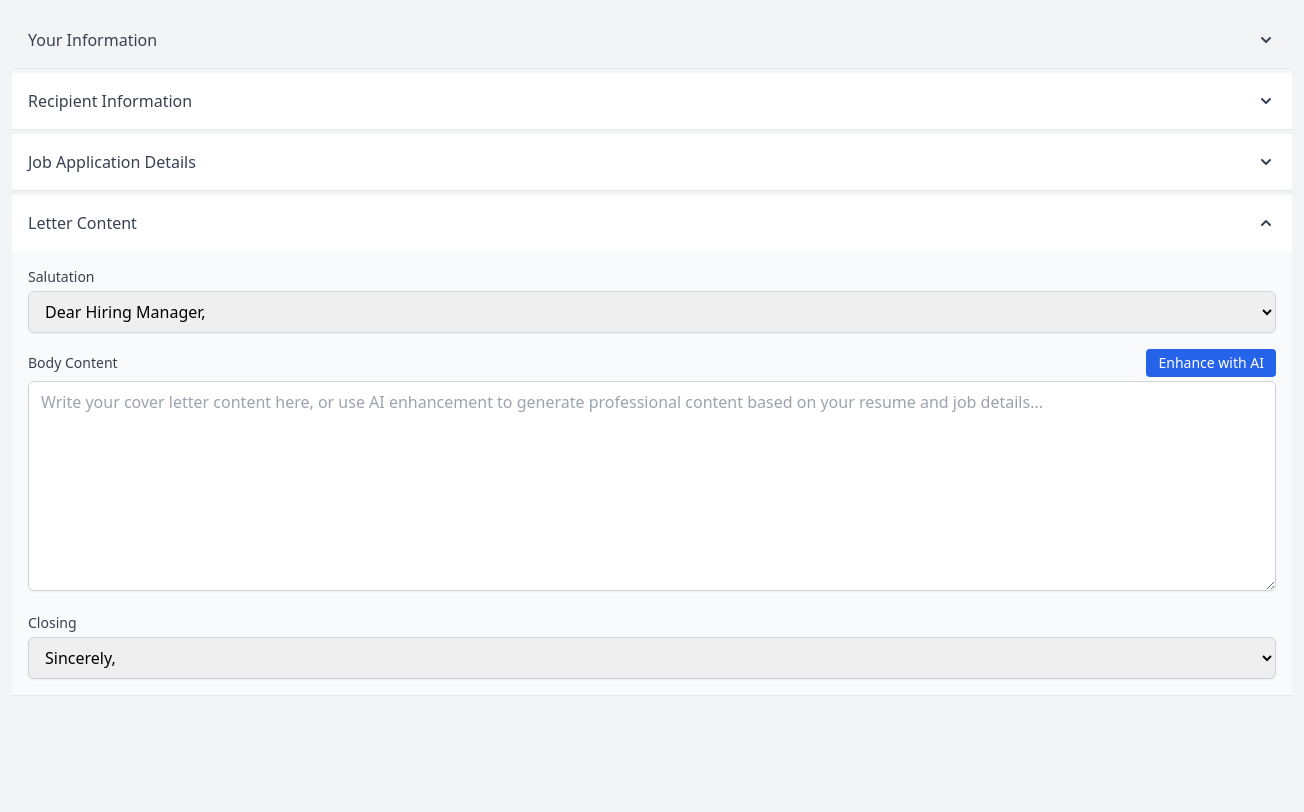
Test: CoverLetterEditor › handles AI enhancement errors
Step 1. Click the button "Enhance with AI" → (1211, 363), box [1146,349,1276,377]
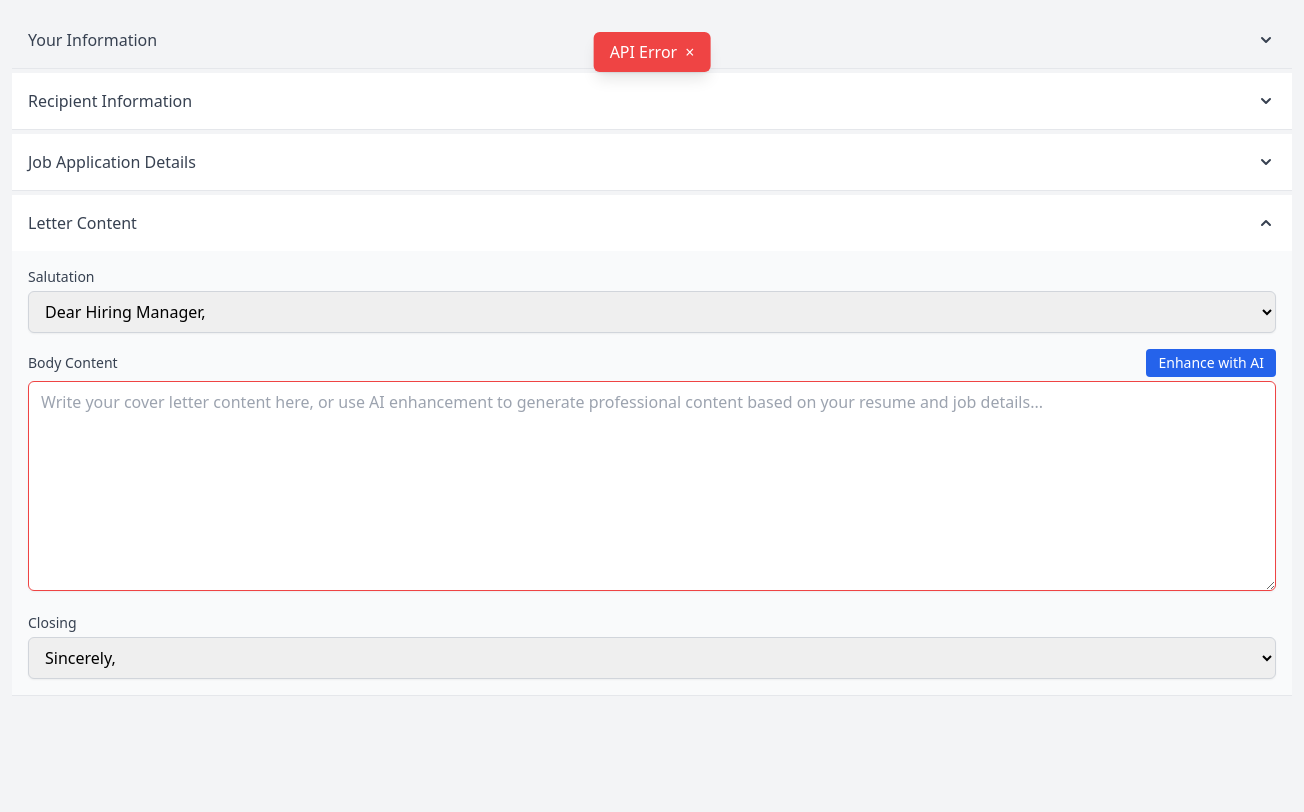
Expected: the text "API Error" is shown, [610,40,677,64]
